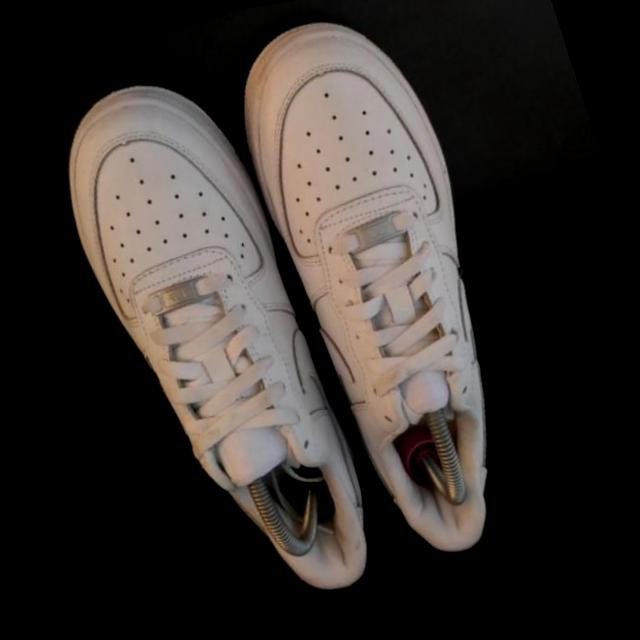nike_fake_airforce: (35, 47, 392, 640), (209, 0, 568, 586)
